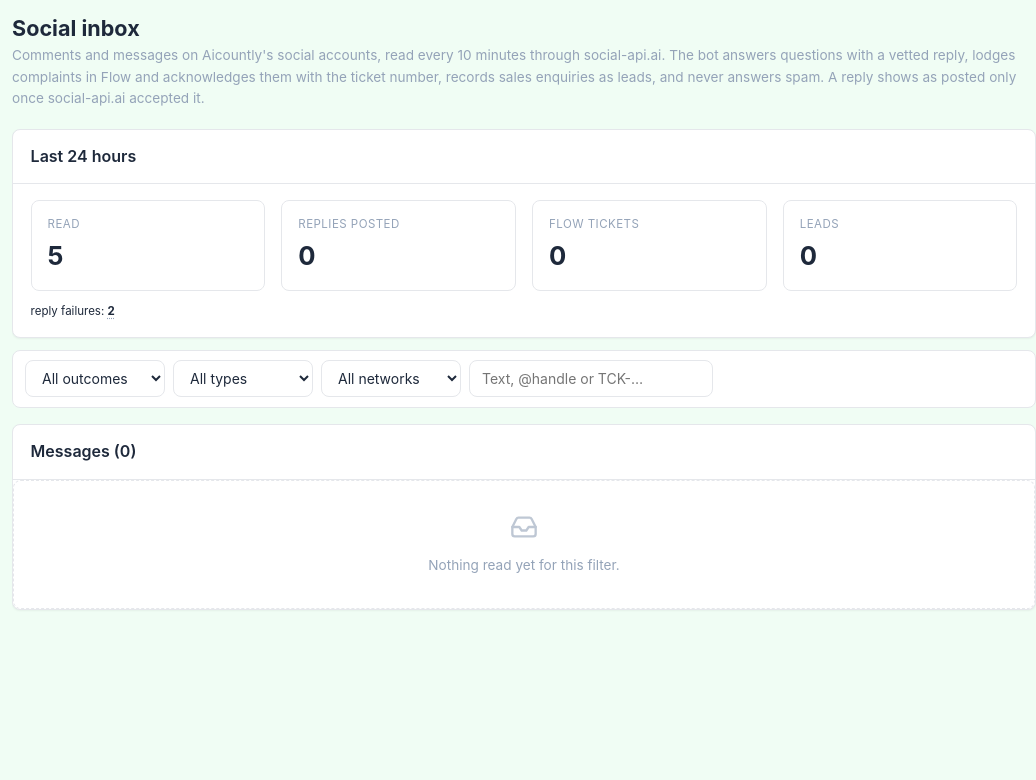
Scenario: Social inbox — reply failures and complaints waiting for Flow › reply failures open the failed replies changed in the last 24 hours
Click the button named "Show 2 reply failures from the last 24 hours" at coordinates (111, 312), box [108, 303, 115, 321]
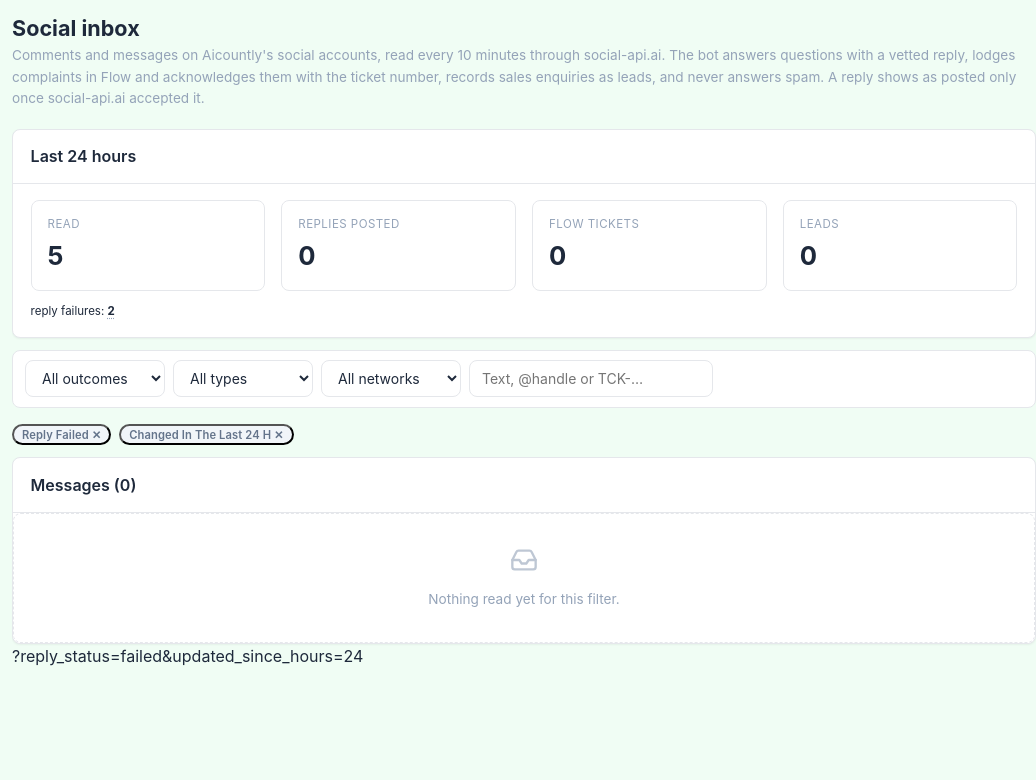
Expected: the text with test id "search" reads "?reply_status=failed&updated_since_hours=24", [12, 646, 363, 666]
Expected: the button with aria-label "clear changed in the last 24 h filter" is shown, [119, 424, 294, 445]
